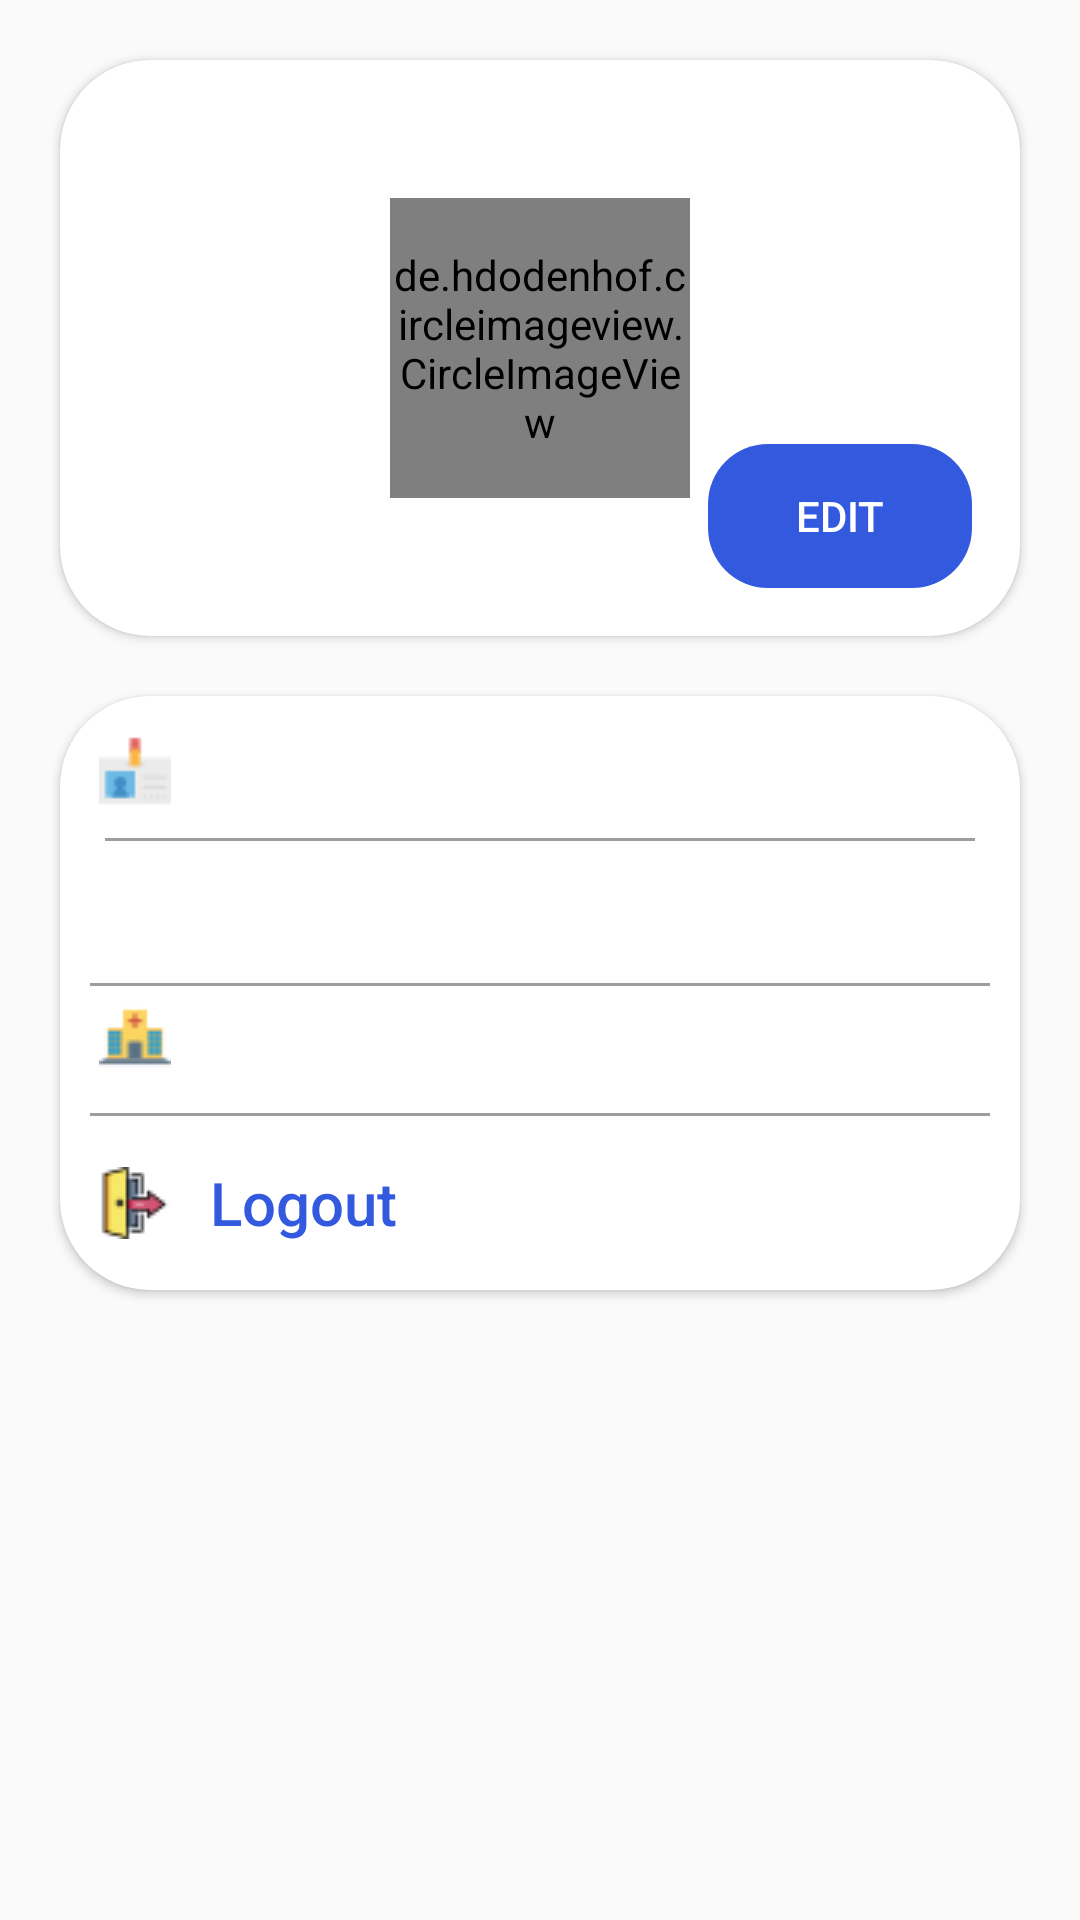

Point at icon controls on the screen. Image size 1080 x 1920, points as (x=x, y=y).
hospital: (x=135, y=1037)
nametag: (x=135, y=770)
